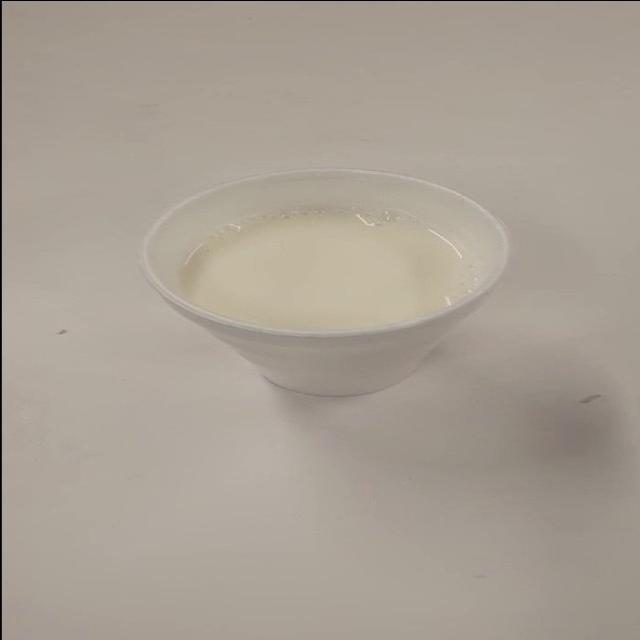Milk: (128, 156, 558, 417)
